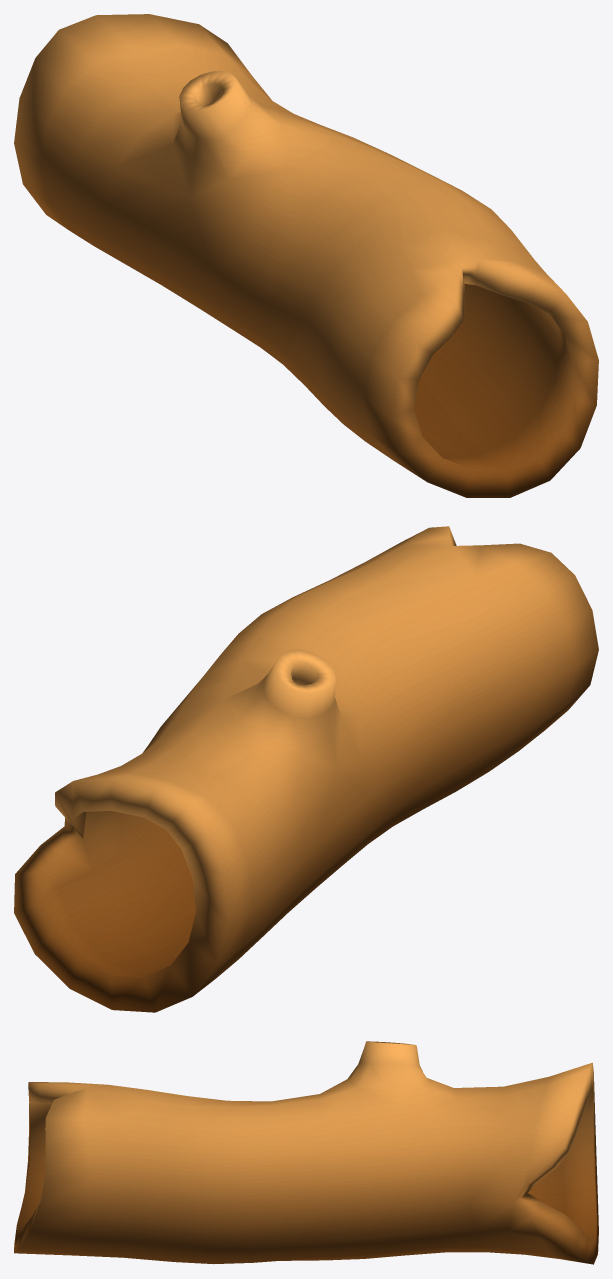
Rendered from Log.fbx.
The picture shows the model from 3 angles, top to bottom: view 1: azimuth 30°, elevation 25°; view 2: azimuth 150°, elevation 25°; view 3: azimuth 270°, elevation 25°; orthographic projection. The views are drawn at different scales.
Visible parts, largest first — view 1: Log; view 2: Log; view 3: Log.
Boxes of the visible parts, x1=… form: Log: x1=14, y1=14, x2=598, y2=497; Log: x1=14, y1=526, x2=598, y2=1012; Log: x1=14, y1=1041, x2=598, y2=1264.
Size of the model in its own units: 7.02 by 19.03 by 7.14.
